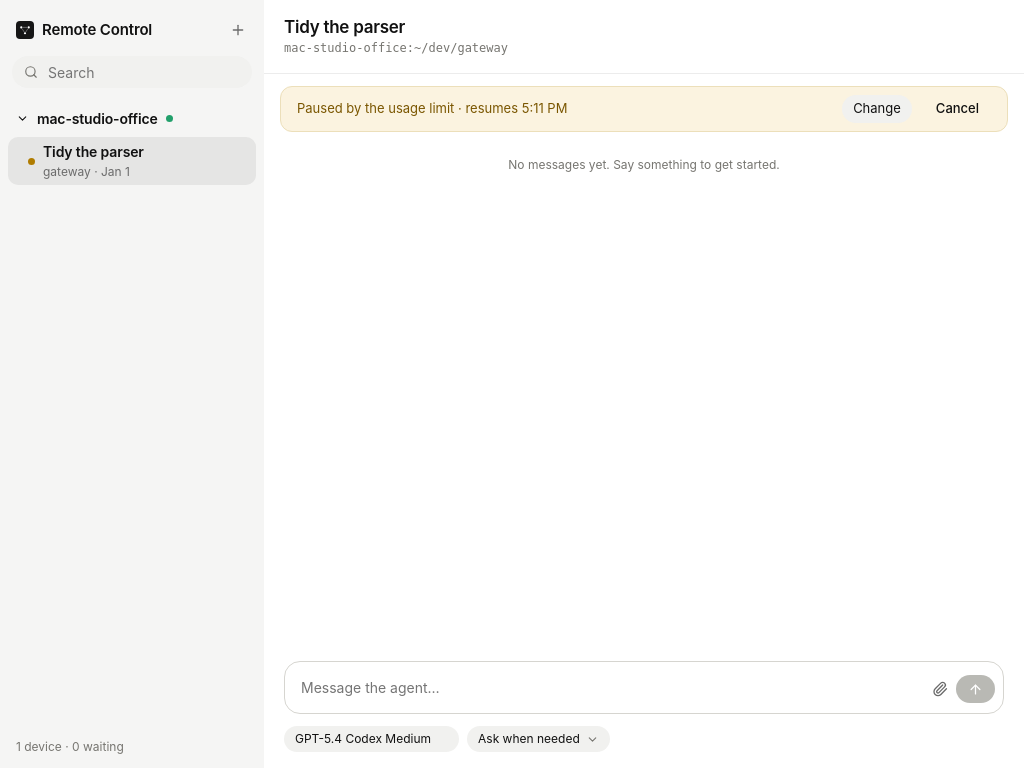
Test case: the pending resume above the transcript › says so under the transcript when the cancel fails
Click the button "Cancel" at coordinates (957, 109), box 924,95 -> 991,123
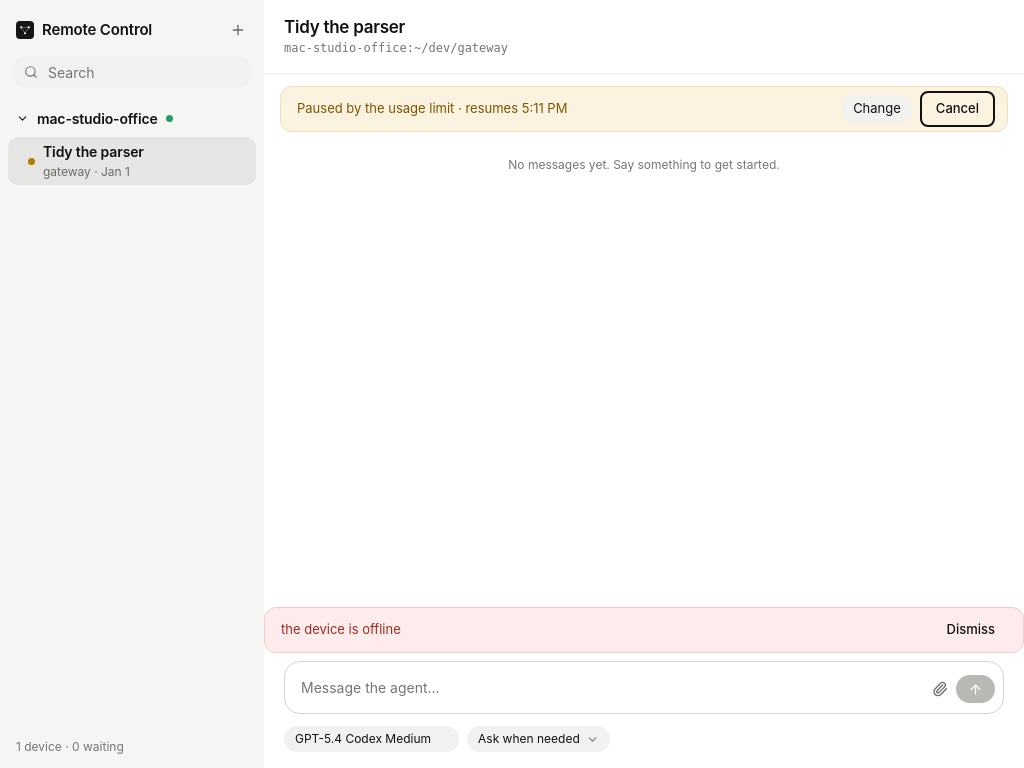
Expected: the message "Paused by the usage limit · resumes 5:11 PM Change Cancel" is shown, 280,86 -> 1008,132
Expected: the text "the device is offline" is shown, 281,621 -> 401,637
